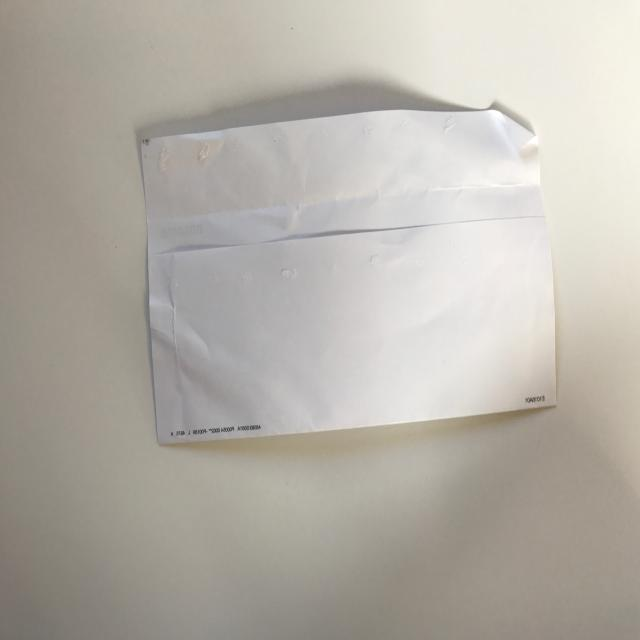paper: (0, 2, 640, 640)
